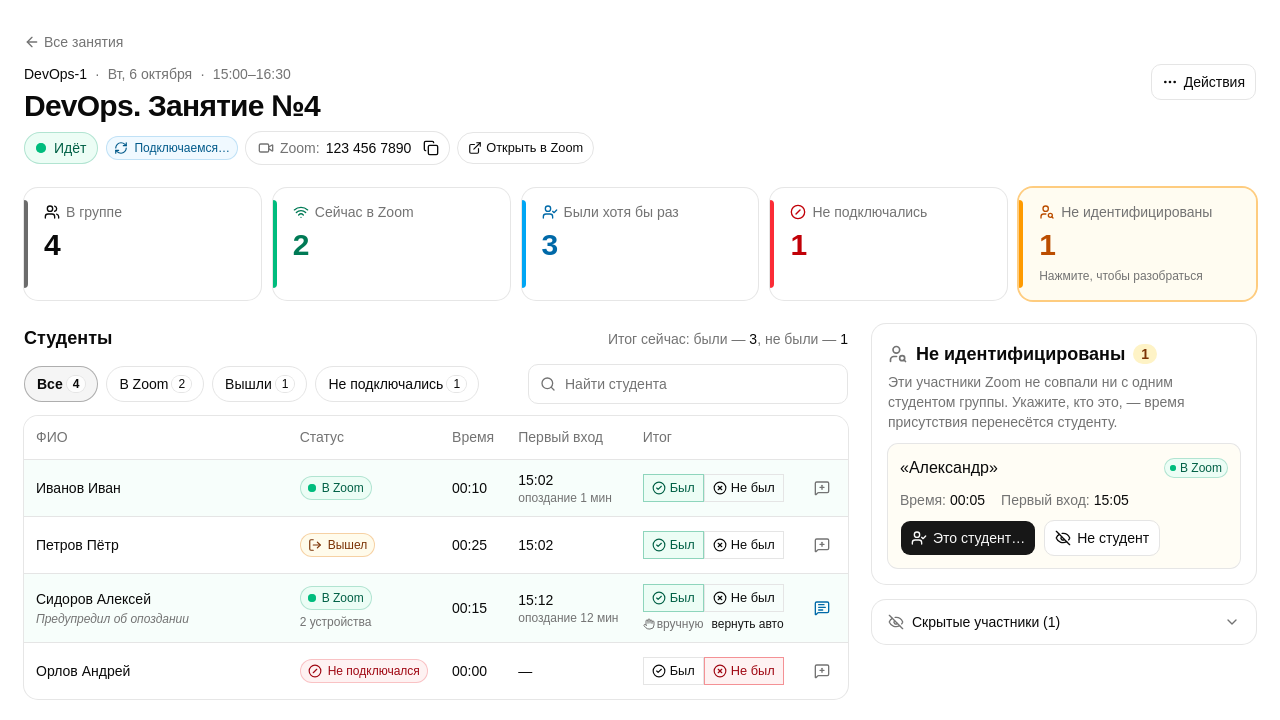
Scenario: LessonPage › filters students with the quick chips and the search box
The image size is (1280, 720).
Check: the heading "DevOps. Занятие №4" is shown, box [24,89,320,122]
Check: the radio button labelled "В Zoom 2" is shown, box [106,366,204,402]
Click the radio button labelled "Не подключались 1" at [397, 384], box [315,366,479,402]
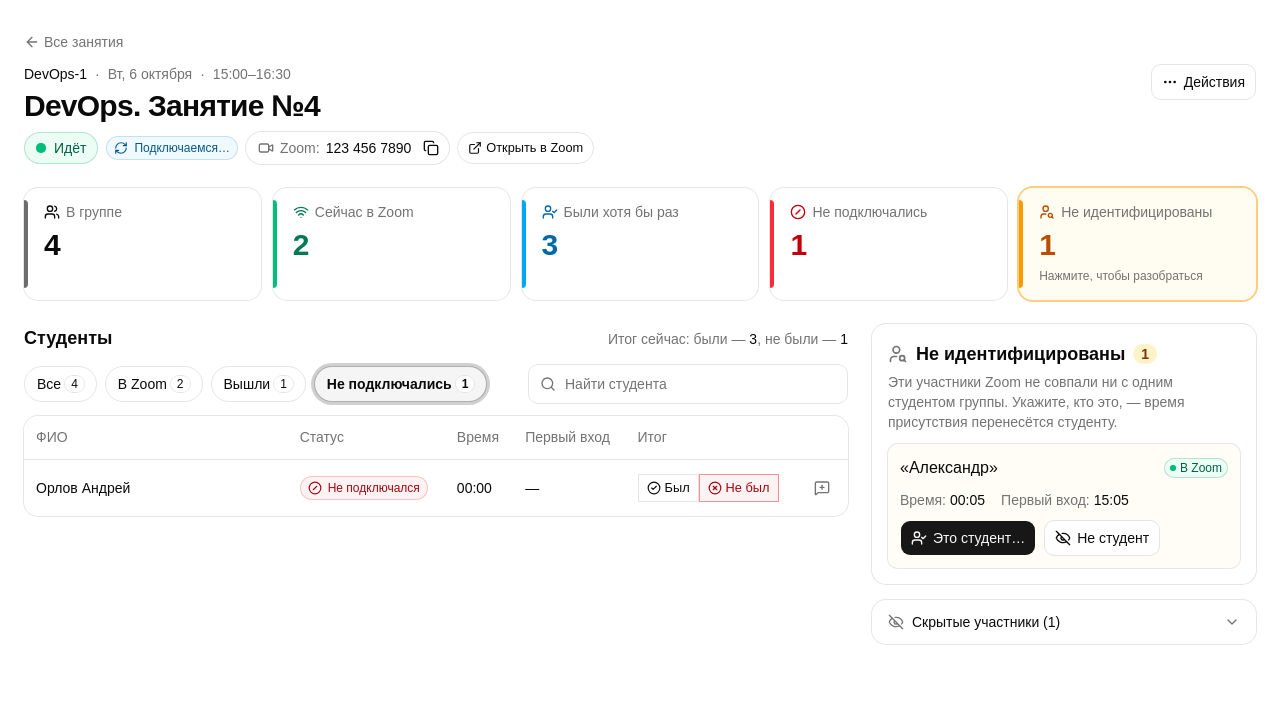
Check: the button "Орлов Андрей" is shown, box [36,478,130,498]
Check: the button "Иванов Иван" is gone
Click the radio button labelled "Все 4" at [60, 384], box [24,366,97,402]
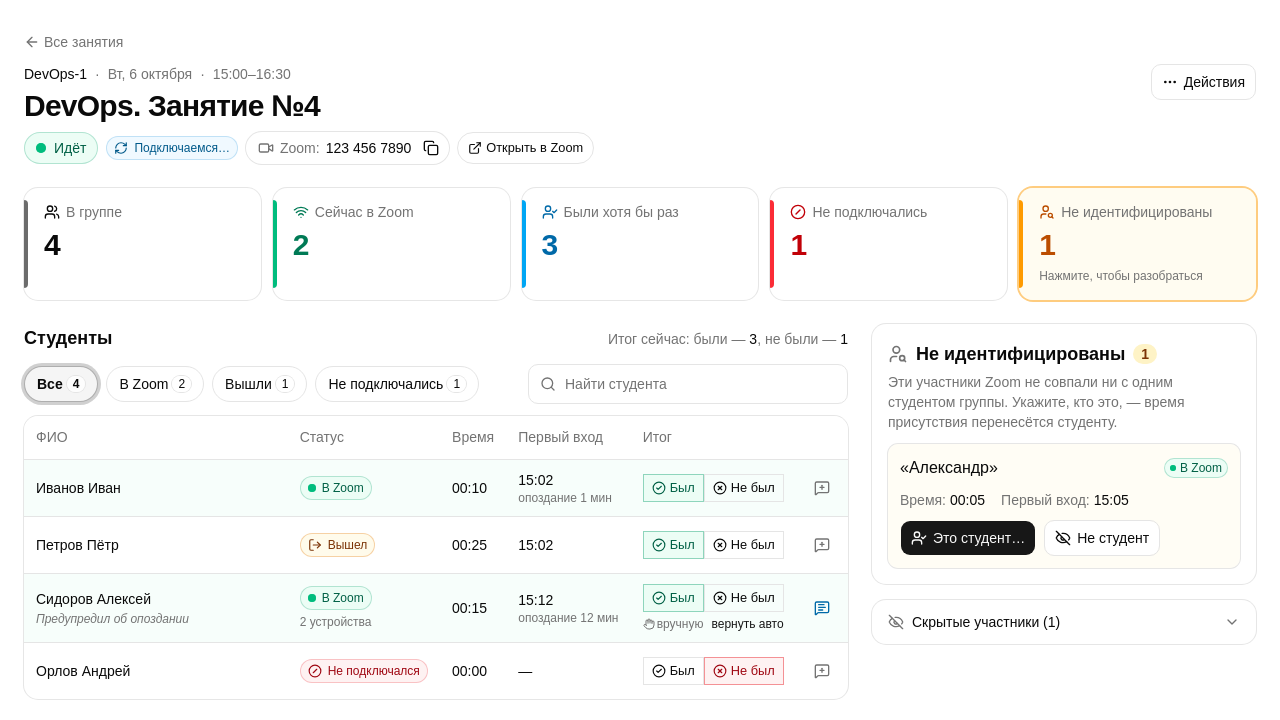
Type "сидоров" into the search field labelled "Найти студента" at [688, 384], box [528,364,848,404]
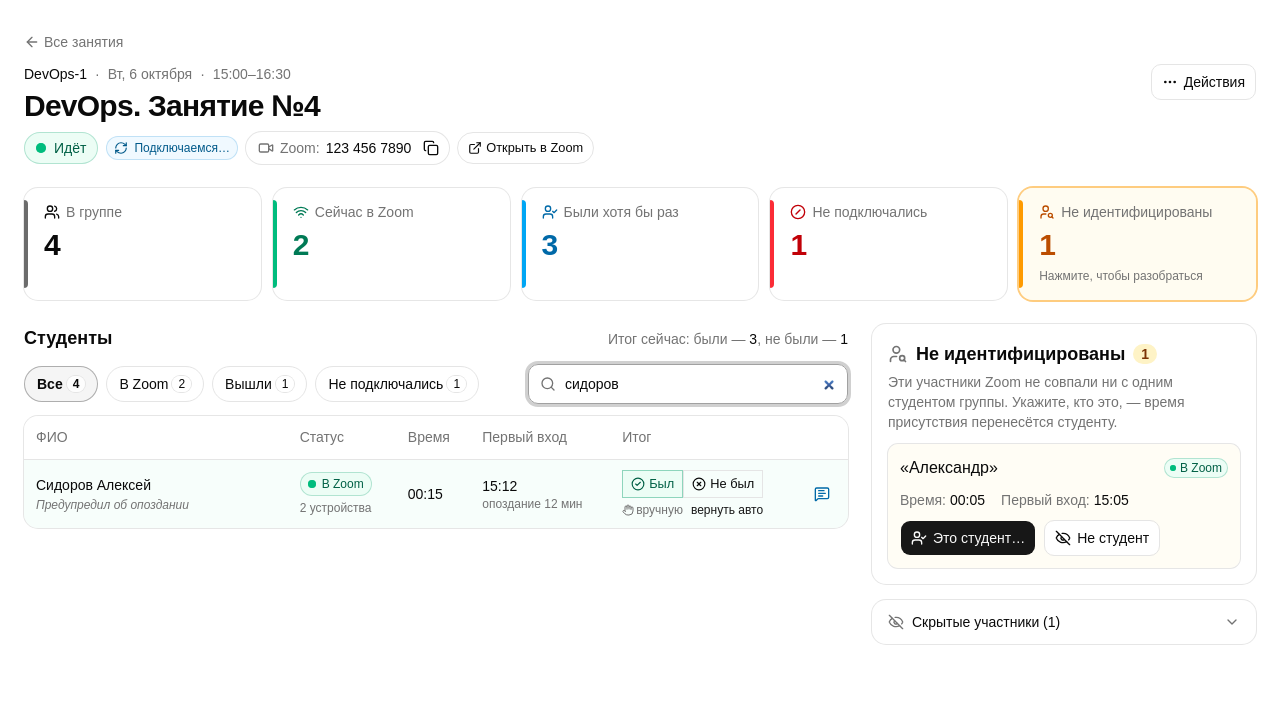
Check: the button "Сидоров Алексей" is shown, box [36,475,151,495]
Check: the button "Орлов Андрей" is gone
# Zoom names are searchable too.
Replace the text in the search field named "Найти студента" with "iphone" at [688, 384], box [528,364,848,404]
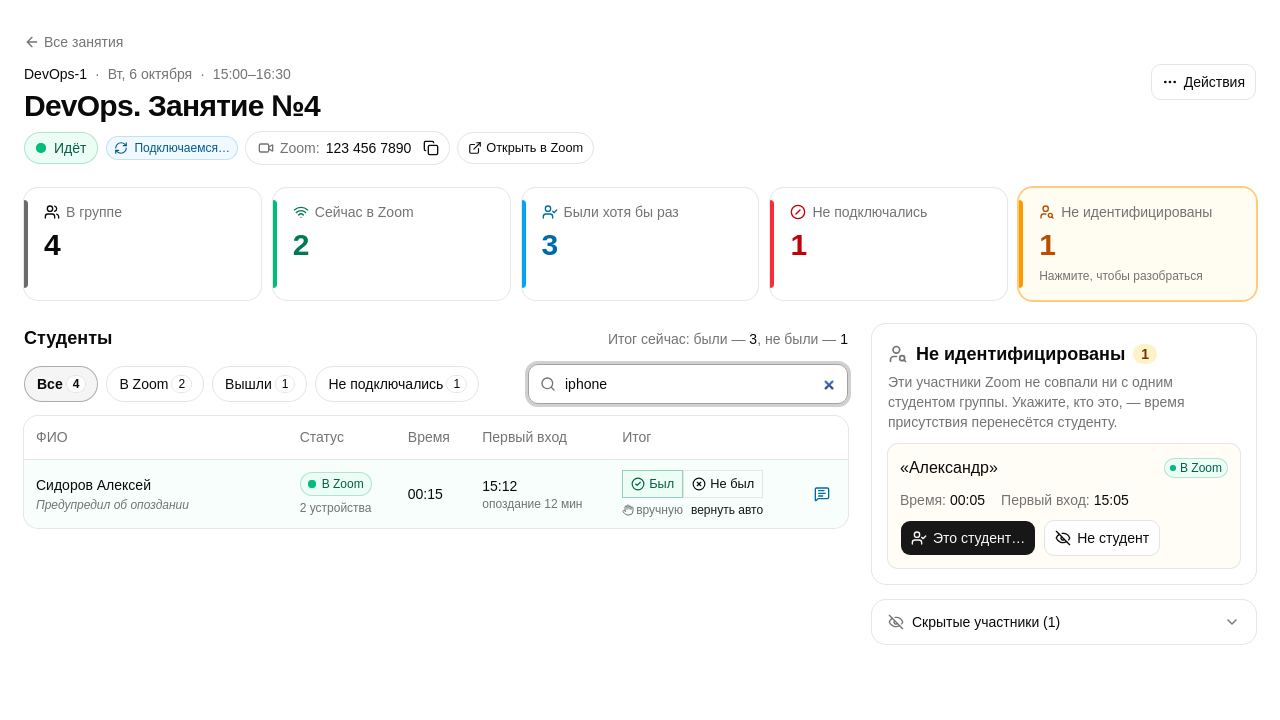
Check: the button "Сидоров Алексей" is shown, box [36,475,151,495]
Type "zzz" into the search field named "Найти студента" at [688, 384], box [528,364,848,404]
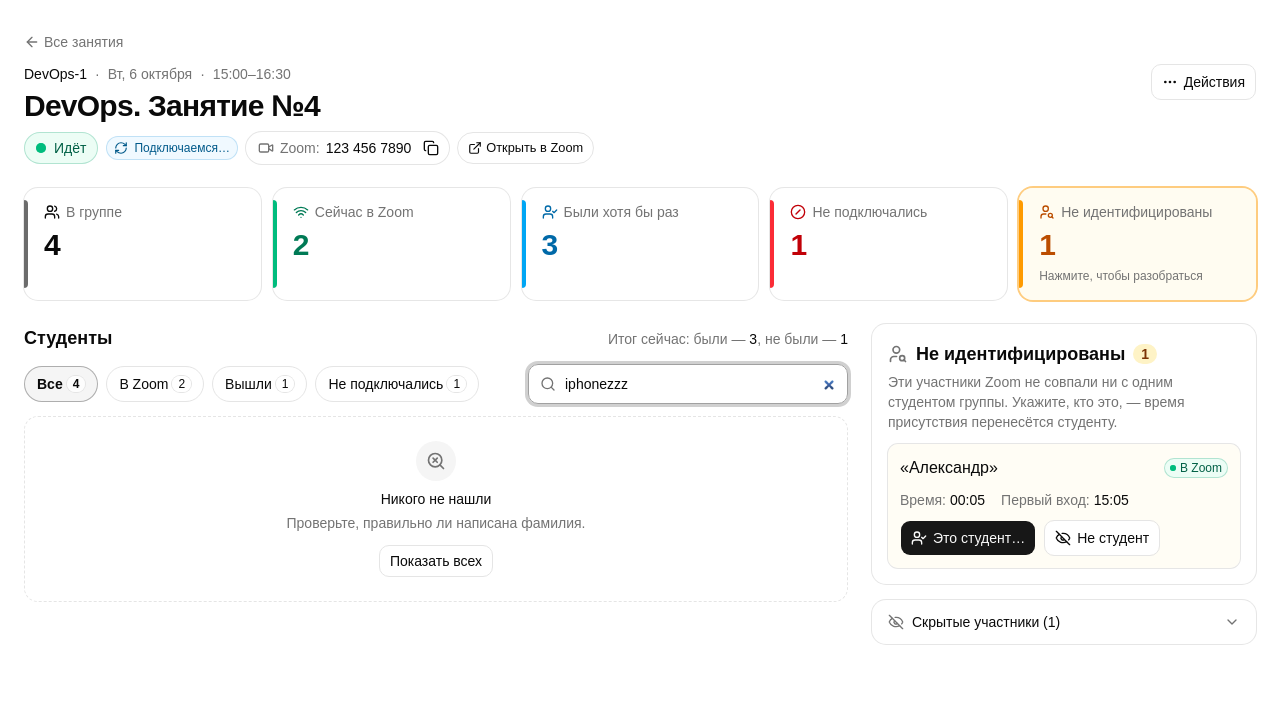
Check: the text "Никого не нашли" is shown, box [381,490,491,506]
Click the button "Показать всех" at [436, 560], box [379,544,493,576]
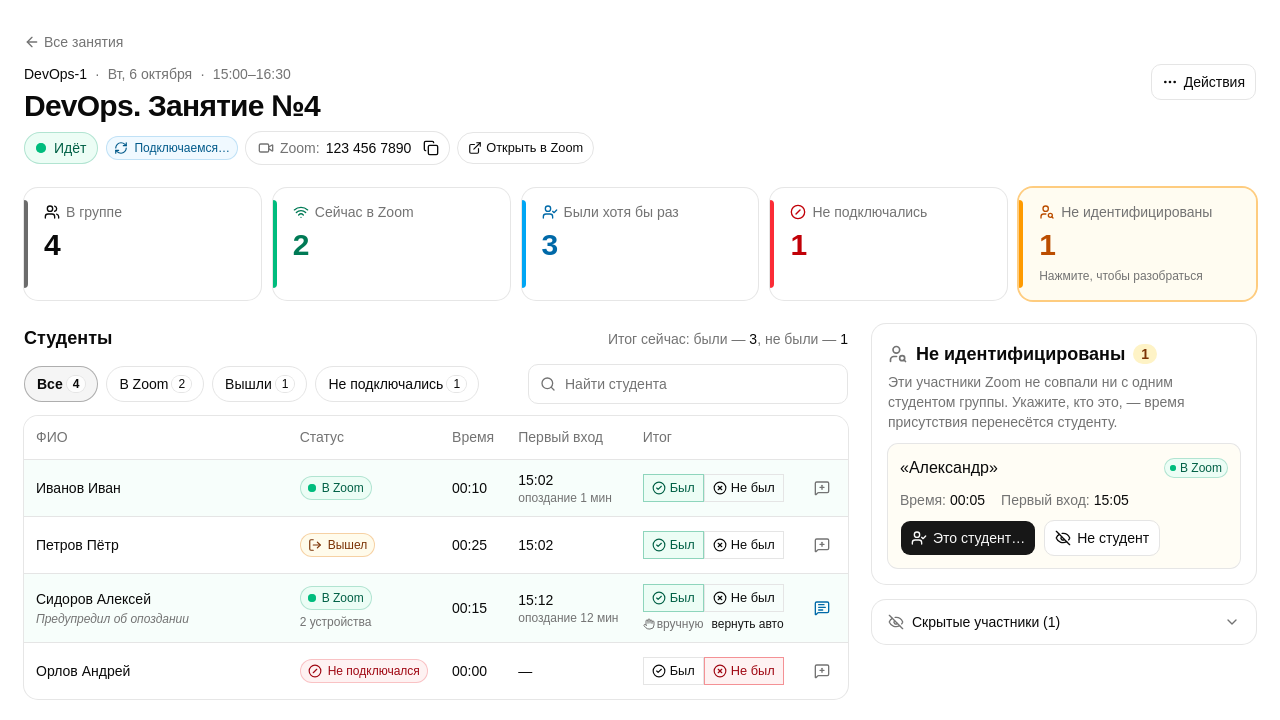
Check: the number of rows is 5, box [24,416,848,460]; [24,460,848,516]; [24,516,848,574]; [24,574,848,642]; [24,642,848,699]
